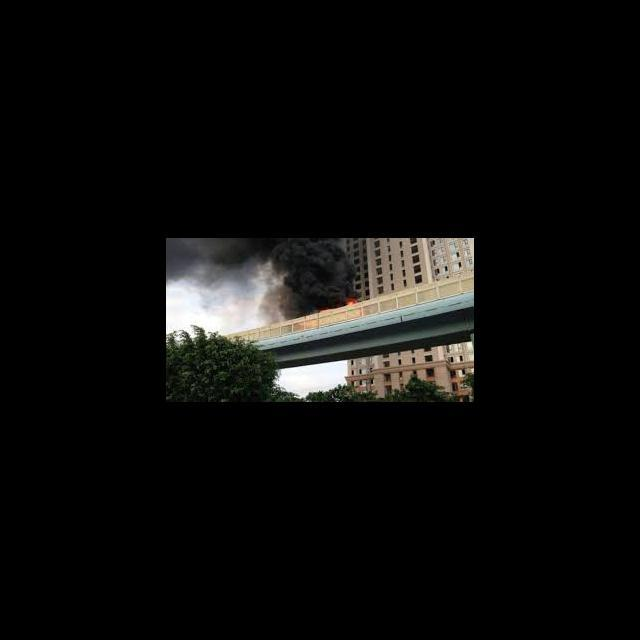Fire: (342, 297, 360, 306)
Smoke: (167, 240, 356, 293)
